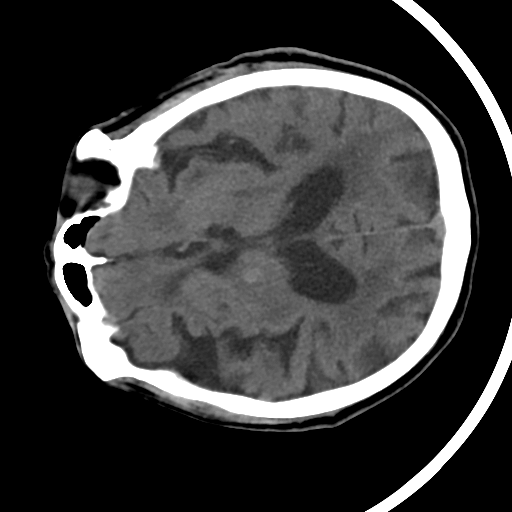a: (222, 250, 286, 304)
